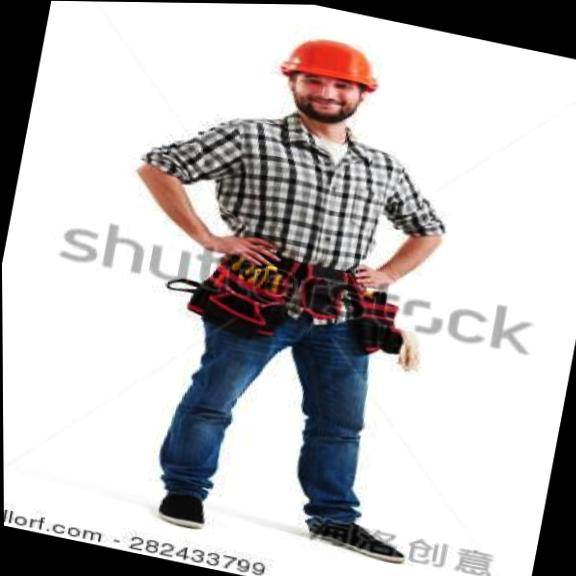no_safety_vest: (174, 105, 455, 324)
